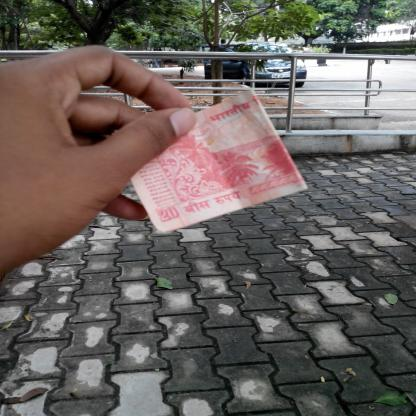Old20Back: (131, 102, 295, 223)
